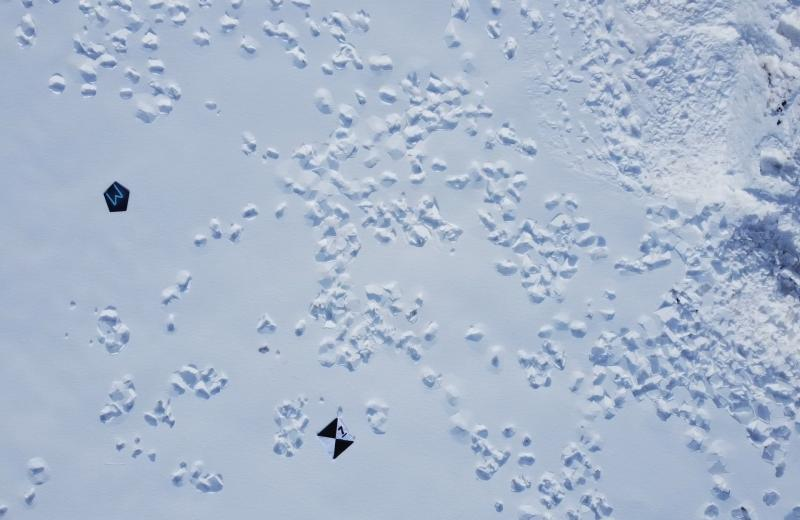Pentagon: (98, 178, 132, 217)
